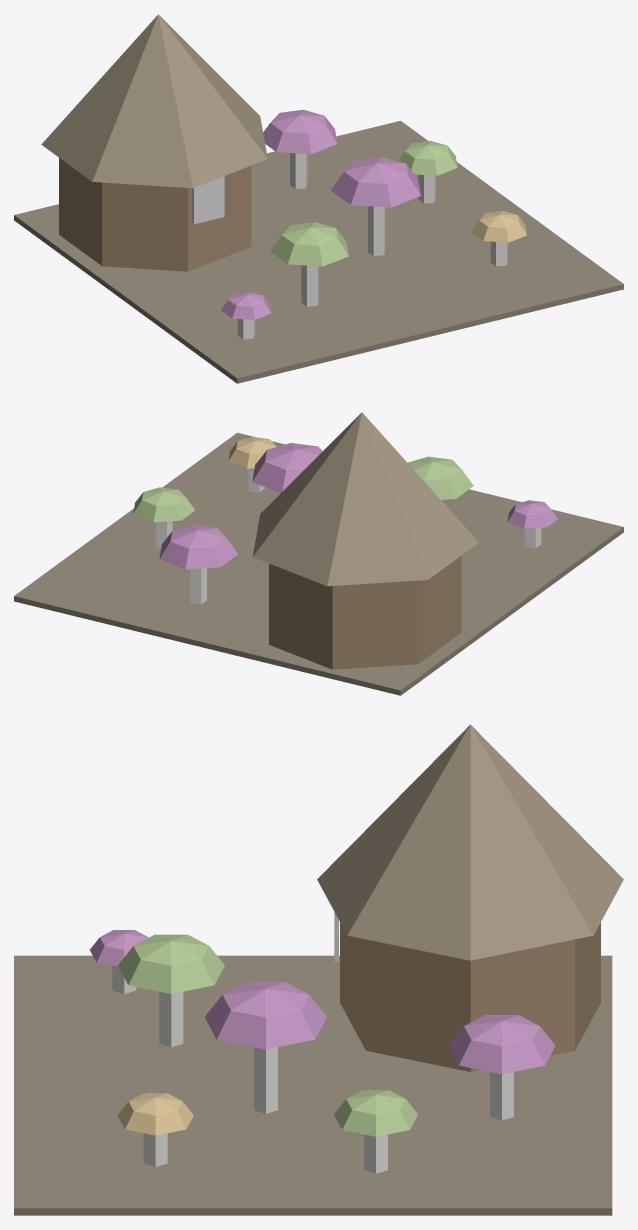
3 views of the same model, one above another, from view 1: azimuth 30°, elevation 25°; view 2: azimuth 150°, elevation 25°; view 3: azimuth 270°, elevation 25° (orthographic). The views are drawn at different scales.
Visible parts, largest first — view 1: body; view 2: body; view 3: body.
Part boxes in pixels (x1,y1,x2,y2): body: [14, 14, 623, 383]; body: [14, 412, 623, 695]; body: [14, 724, 623, 1215].
Bounding box in the file's own units: 7.6 × 4.18 × 7.75.
